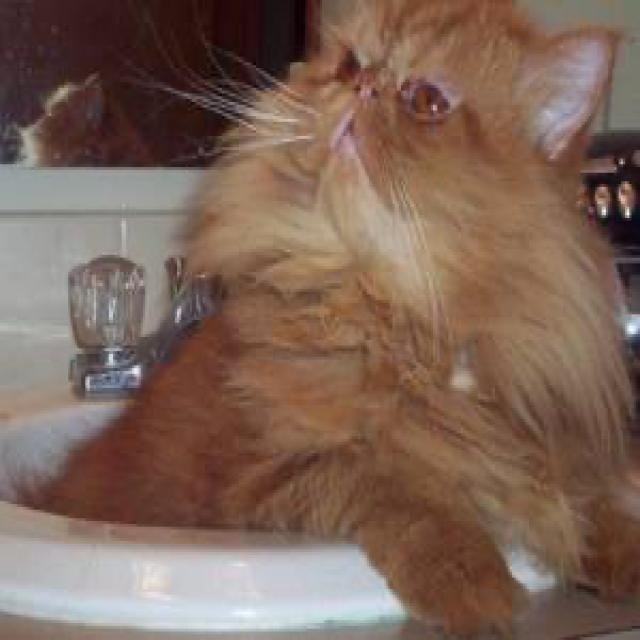cat: (286, 0, 612, 249)
